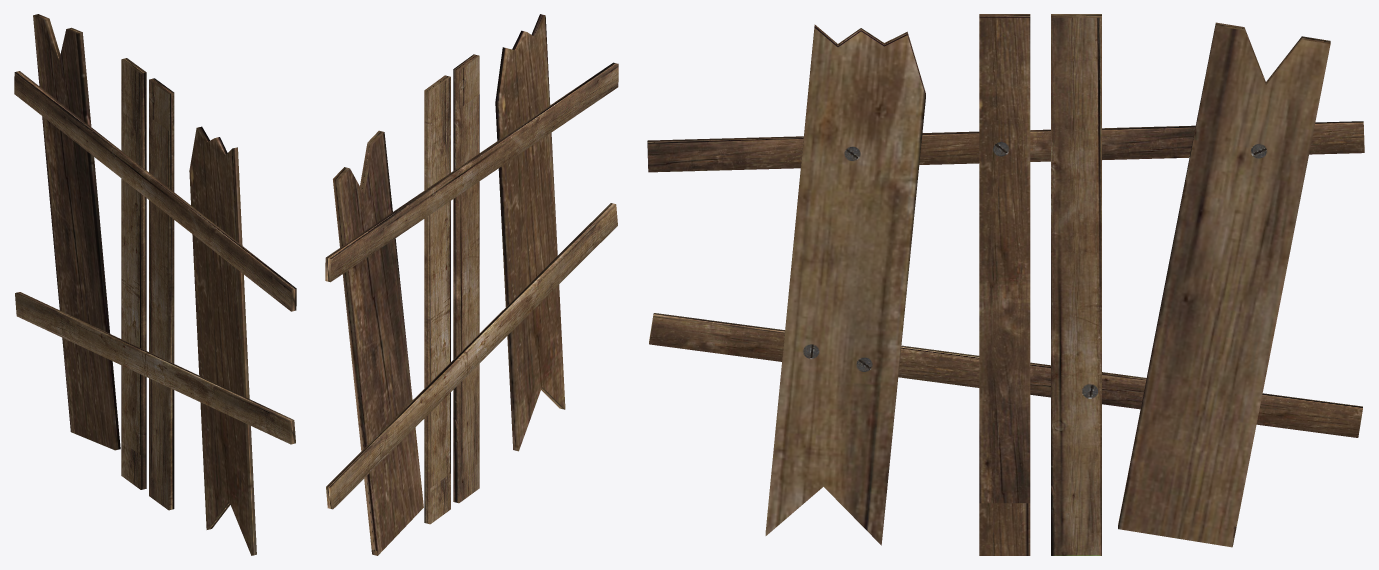
Rendered from Wood1.fbx.
3 renders of one model, left to right at view 1: azimuth 30°, elevation 25°; view 2: azimuth 150°, elevation 25°; view 3: azimuth 270°, elevation 25°, orthographic. The views are drawn at different scales.
Parts seen in each view (by area): view 1: Cube_005; view 2: Cube_005; view 3: Cube_005.
Part boxes in pixels (box(x1,y1,x2,y2)): Cube_005: box(14, 14, 296, 555); Cube_005: box(325, 14, 618, 555); Cube_005: box(647, 14, 1364, 555).
Bounding box in the file's own units: 0.067 × 2.37 × 2.87.
